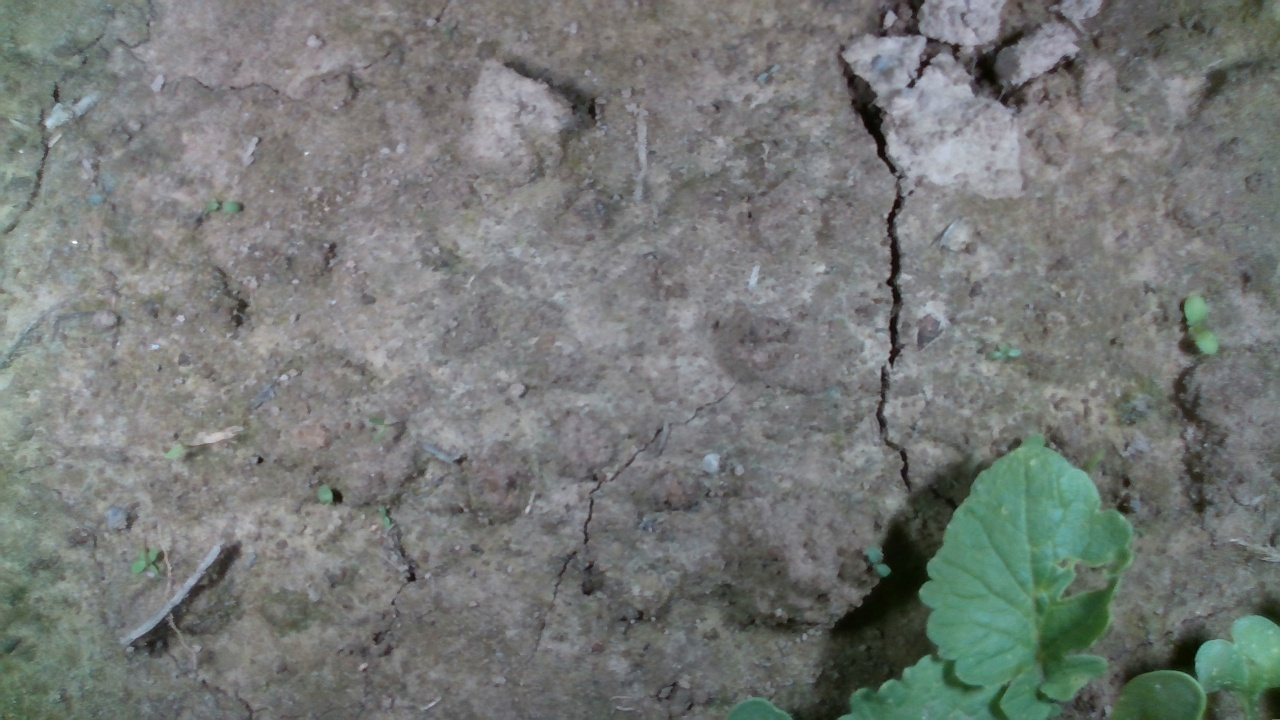weed: (1181, 292, 1219, 357), (983, 341, 1022, 365), (200, 199, 246, 216)
